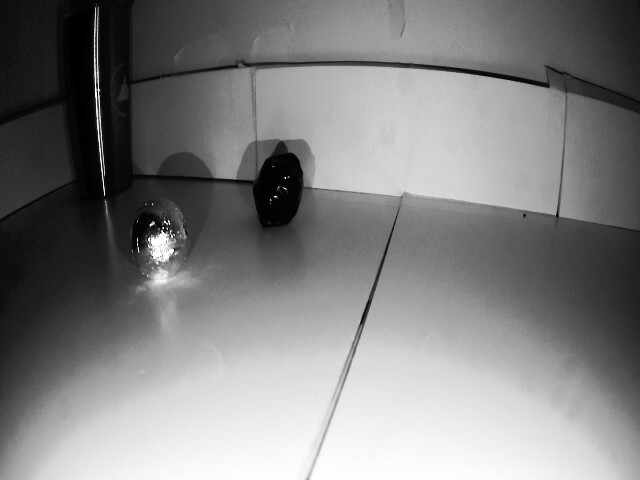black: (120, 192, 196, 284)
silver: (256, 140, 303, 227)
